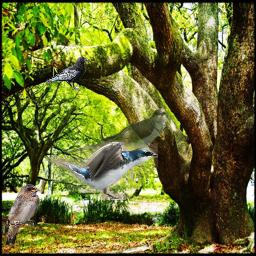Crow: (45, 56, 90, 92)
Cuckoo: (63, 108, 166, 155)
Swallow: (46, 140, 158, 200), (1, 184, 40, 246)
